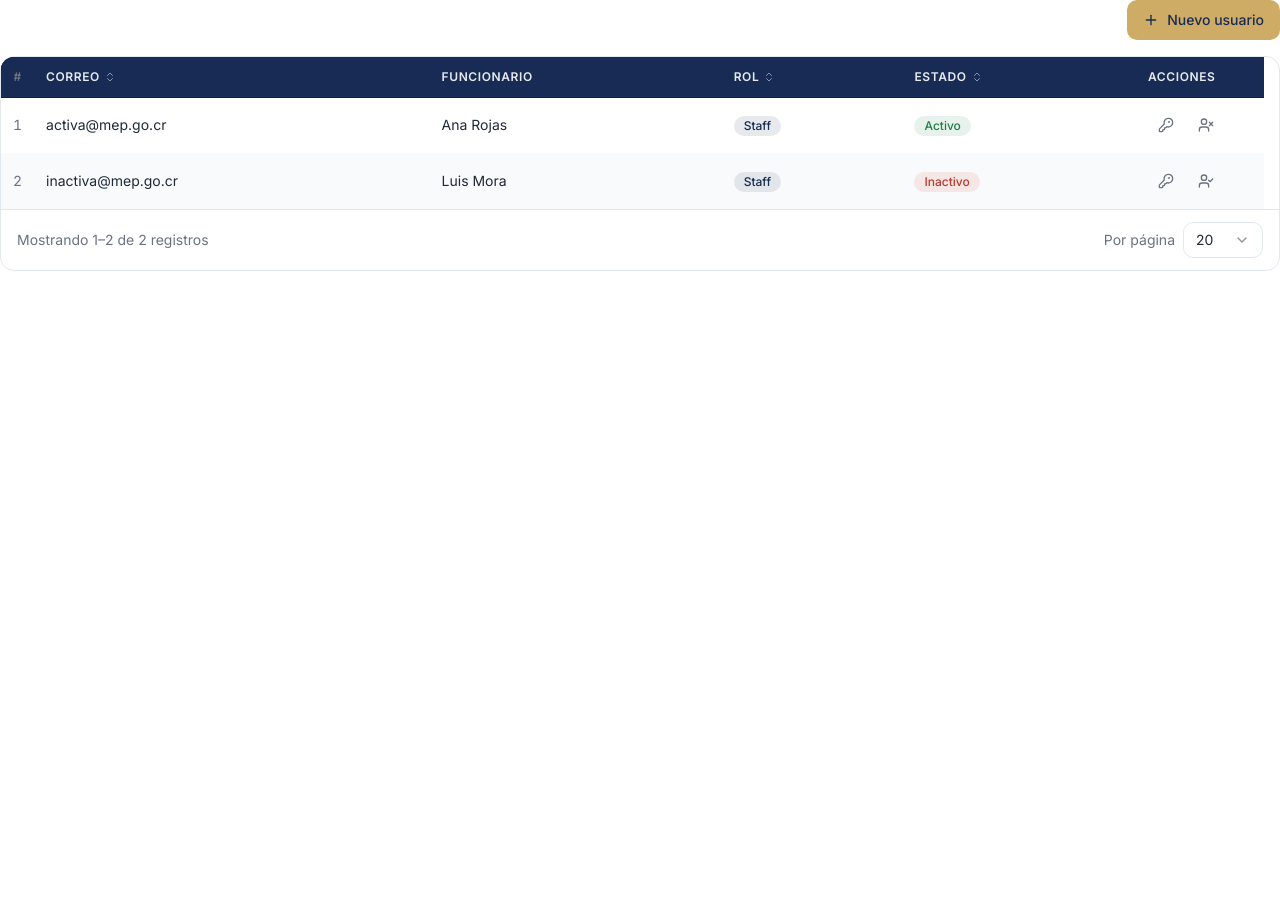
Test case: Pantalla de usuarios — restablecer contraseña › envía la nueva contraseña con Enter y cierra el modal
Click the button named "Restablecer contraseña" in the row of "Ana Rojas" at (1166, 125), box left=1148, top=107, right=1184, bottom=143
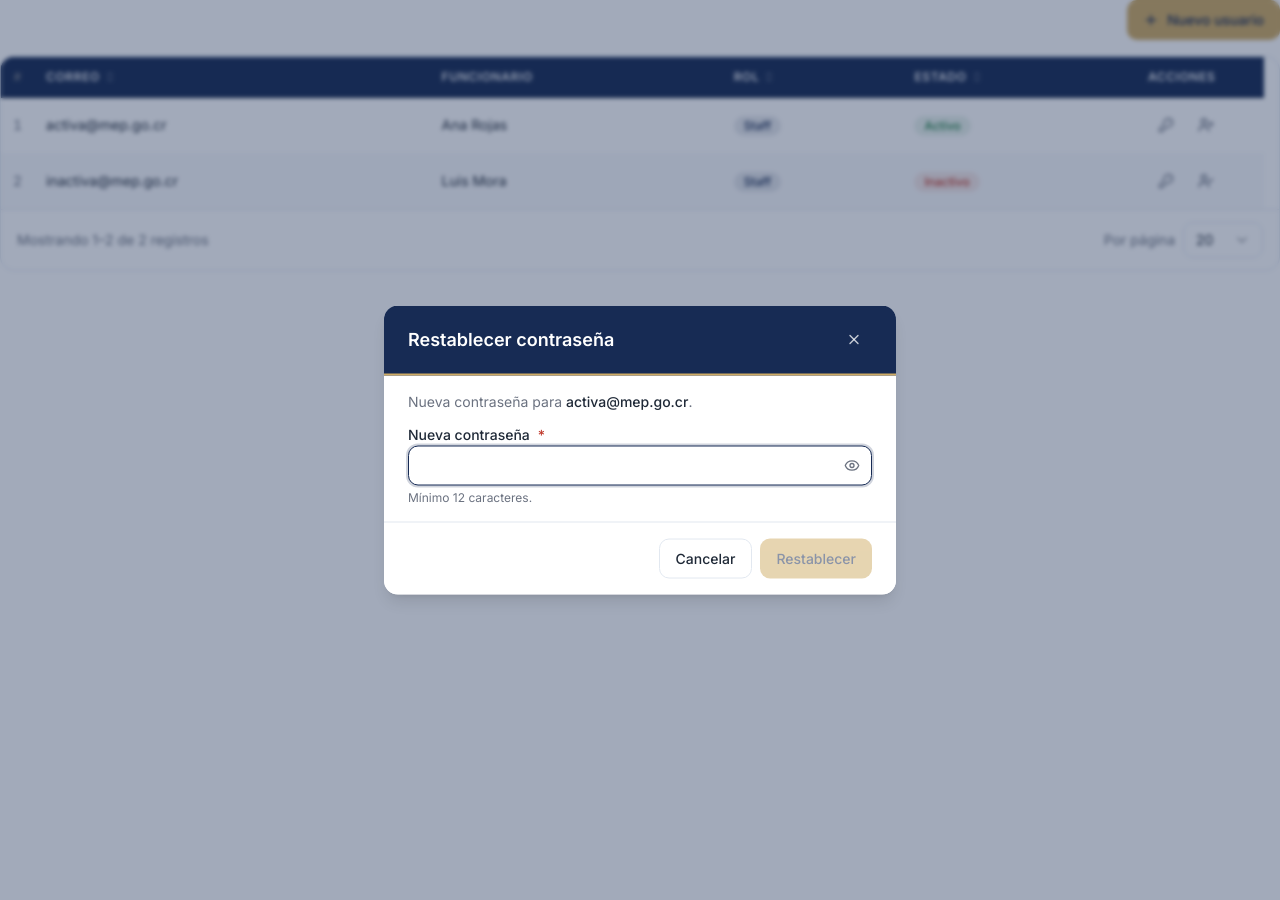
Expected: the text "Mínimo 12 caracteres." is shown, left=408, top=490, right=532, bottom=504
Type "Clave-Segura-123" into the password field labelled "Nueva contraseña *" at (640, 466), box left=408, top=446, right=872, bottom=486
Then press Enter
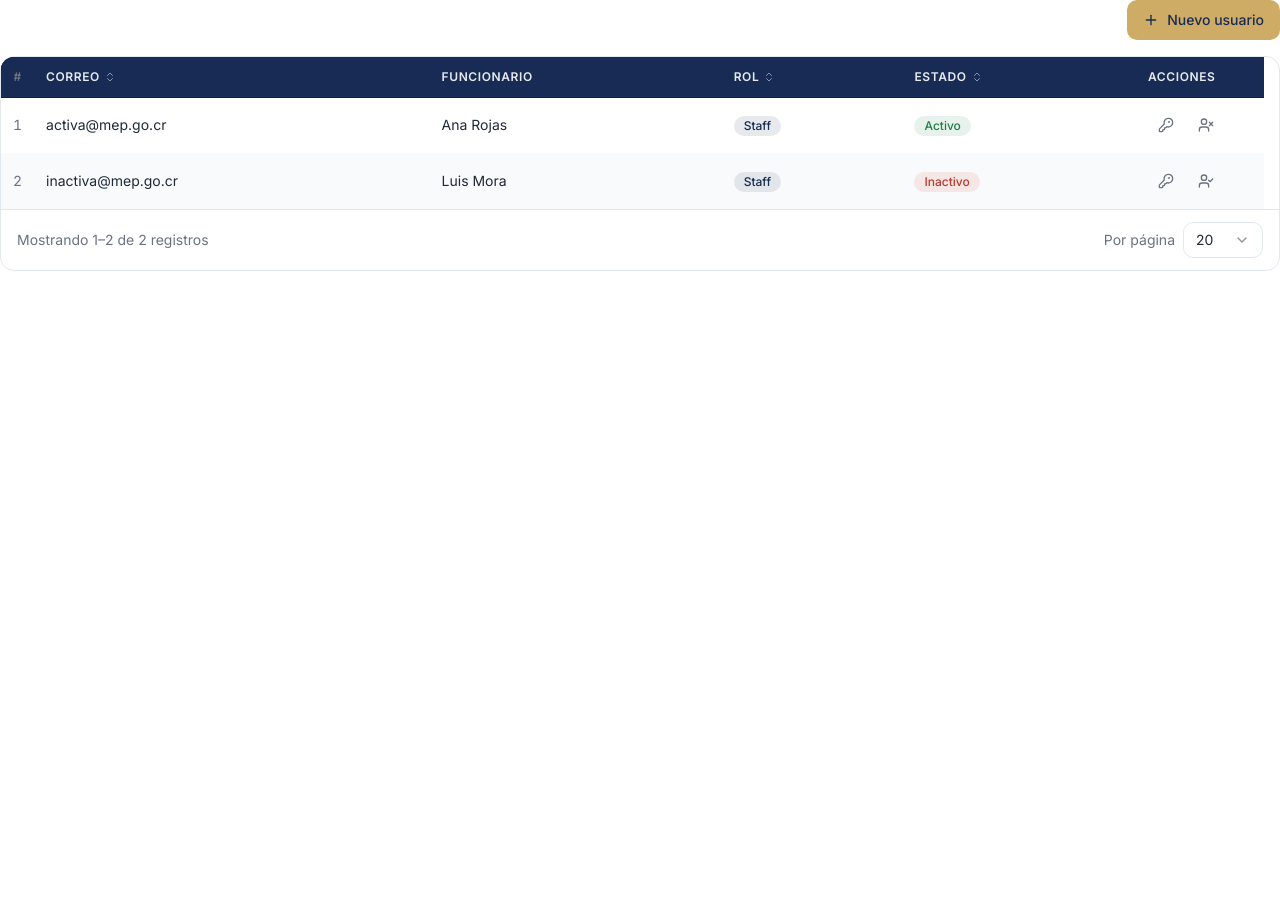
Expected: the dialog is gone
